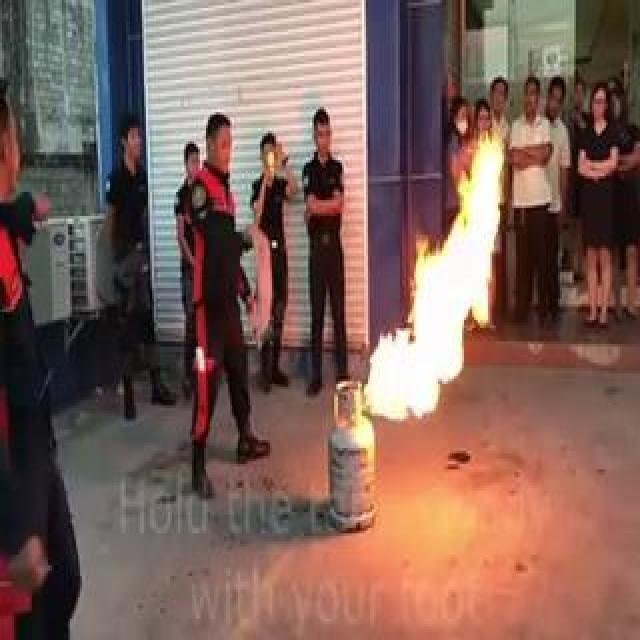Smoke: (358, 97, 498, 428)
